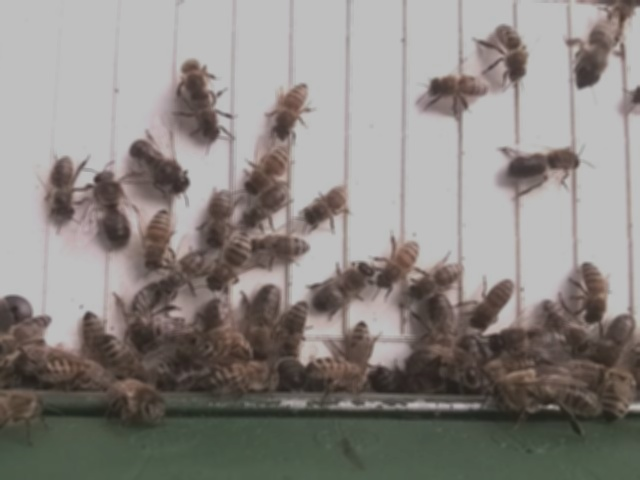Drone: (129, 137, 195, 195), (311, 260, 378, 315), (90, 167, 134, 249), (503, 143, 585, 187), (250, 279, 283, 360)
Worker: (208, 230, 255, 295), (470, 275, 519, 333), (373, 237, 422, 292), (238, 180, 293, 228), (410, 257, 468, 302), (242, 142, 294, 192), (270, 79, 312, 139), (139, 204, 174, 274), (47, 151, 79, 227), (494, 24, 533, 85), (178, 56, 217, 113), (579, 259, 611, 327), (426, 72, 496, 102), (280, 297, 311, 362), (253, 230, 314, 260), (204, 187, 233, 249), (347, 319, 373, 378)
